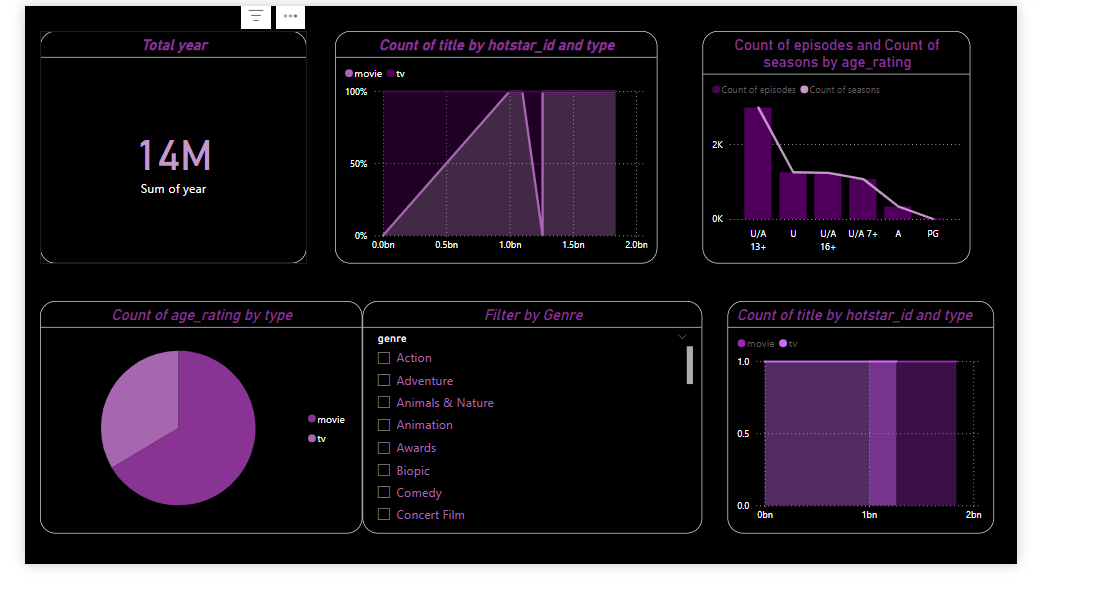

The dashboard page shown, as its layout file describes it:
{"tool":"powerbi","page":{"name":"Page 2","canvas":[1280,720],"ordinal":1},"visuals":[{"type":"card","title":"Total year ","fields":{"Values":["Sum(JIO.year)"]},"box":[18.6,32.9,344.3,300],"z":0},{"type":"hundredPercentStackedAreaChart","fields":{"Category":["JIO.hotstar_id"],"Y":["CountNonNull(JIO.title)"],"Series":["JIO.type"]},"box":[400,32.9,415.7,300],"z":4000},{"type":"lineStackedColumnComboChart","fields":{"Category":["JIO.age_rating"],"Y":["CountNonNull(JIO.episodes)"],"Y2":["CountNonNull(JIO.seasons)"]},"box":[874.3,32.9,345.7,300],"z":5000},{"type":"pieChart","fields":{"Y":["CountNonNull(JIO.age_rating)"],"Category":["JIO.type"]},"box":[18.6,381.4,415.7,300],"z":5001},{"type":"slicer","title":"Filter by Genre","fields":{"Values":["JIO.genre"]},"box":[435.7,381.4,438.6,300],"z":5002},{"type":"stackedAreaChart","fields":{"Category":["JIO.hotstar_id"],"Y":["CountNonNull(JIO.title)"],"Series":["JIO.type"]},"box":[905.7,381.4,344.3,300],"z":5003}]}

Visuals, with their boxes on the page's 1280x720 design canvas (x1, y1, x2, y2). These are canvas units, not pixel positions in the 1119x597 screenshot, which may show the page scaled, cropped or inside an application window:
"Total year " card: 19/33/363/333
hundredPercentStackedAreaChart - JIO.hotstar_id x CountNonNull(JIO.title): 400/33/816/333
lineStackedColumnComboChart - JIO.age_rating x CountNonNull(JIO.episodes): 874/33/1220/333
pieChart - CountNonNull(JIO.age_rating) x JIO.type: 19/381/434/681
"Filter by Genre" slicer: 436/381/874/681
stackedAreaChart - JIO.hotstar_id x CountNonNull(JIO.title): 906/381/1250/681
